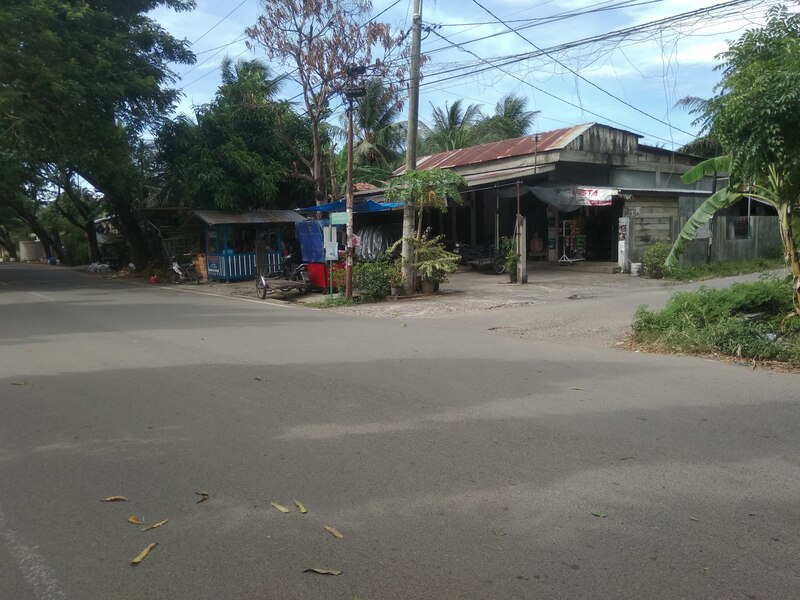becak barang: (252, 248, 318, 307)
